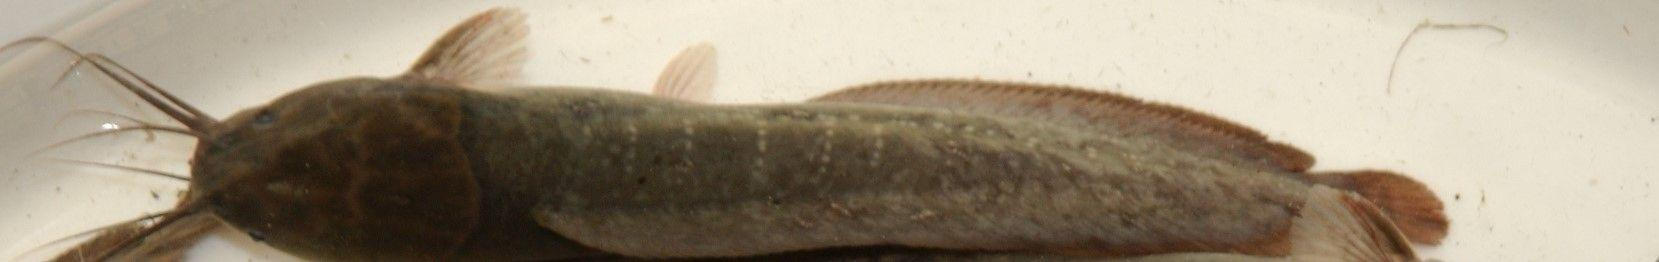Catfish: (0, 0, 1457, 262)
